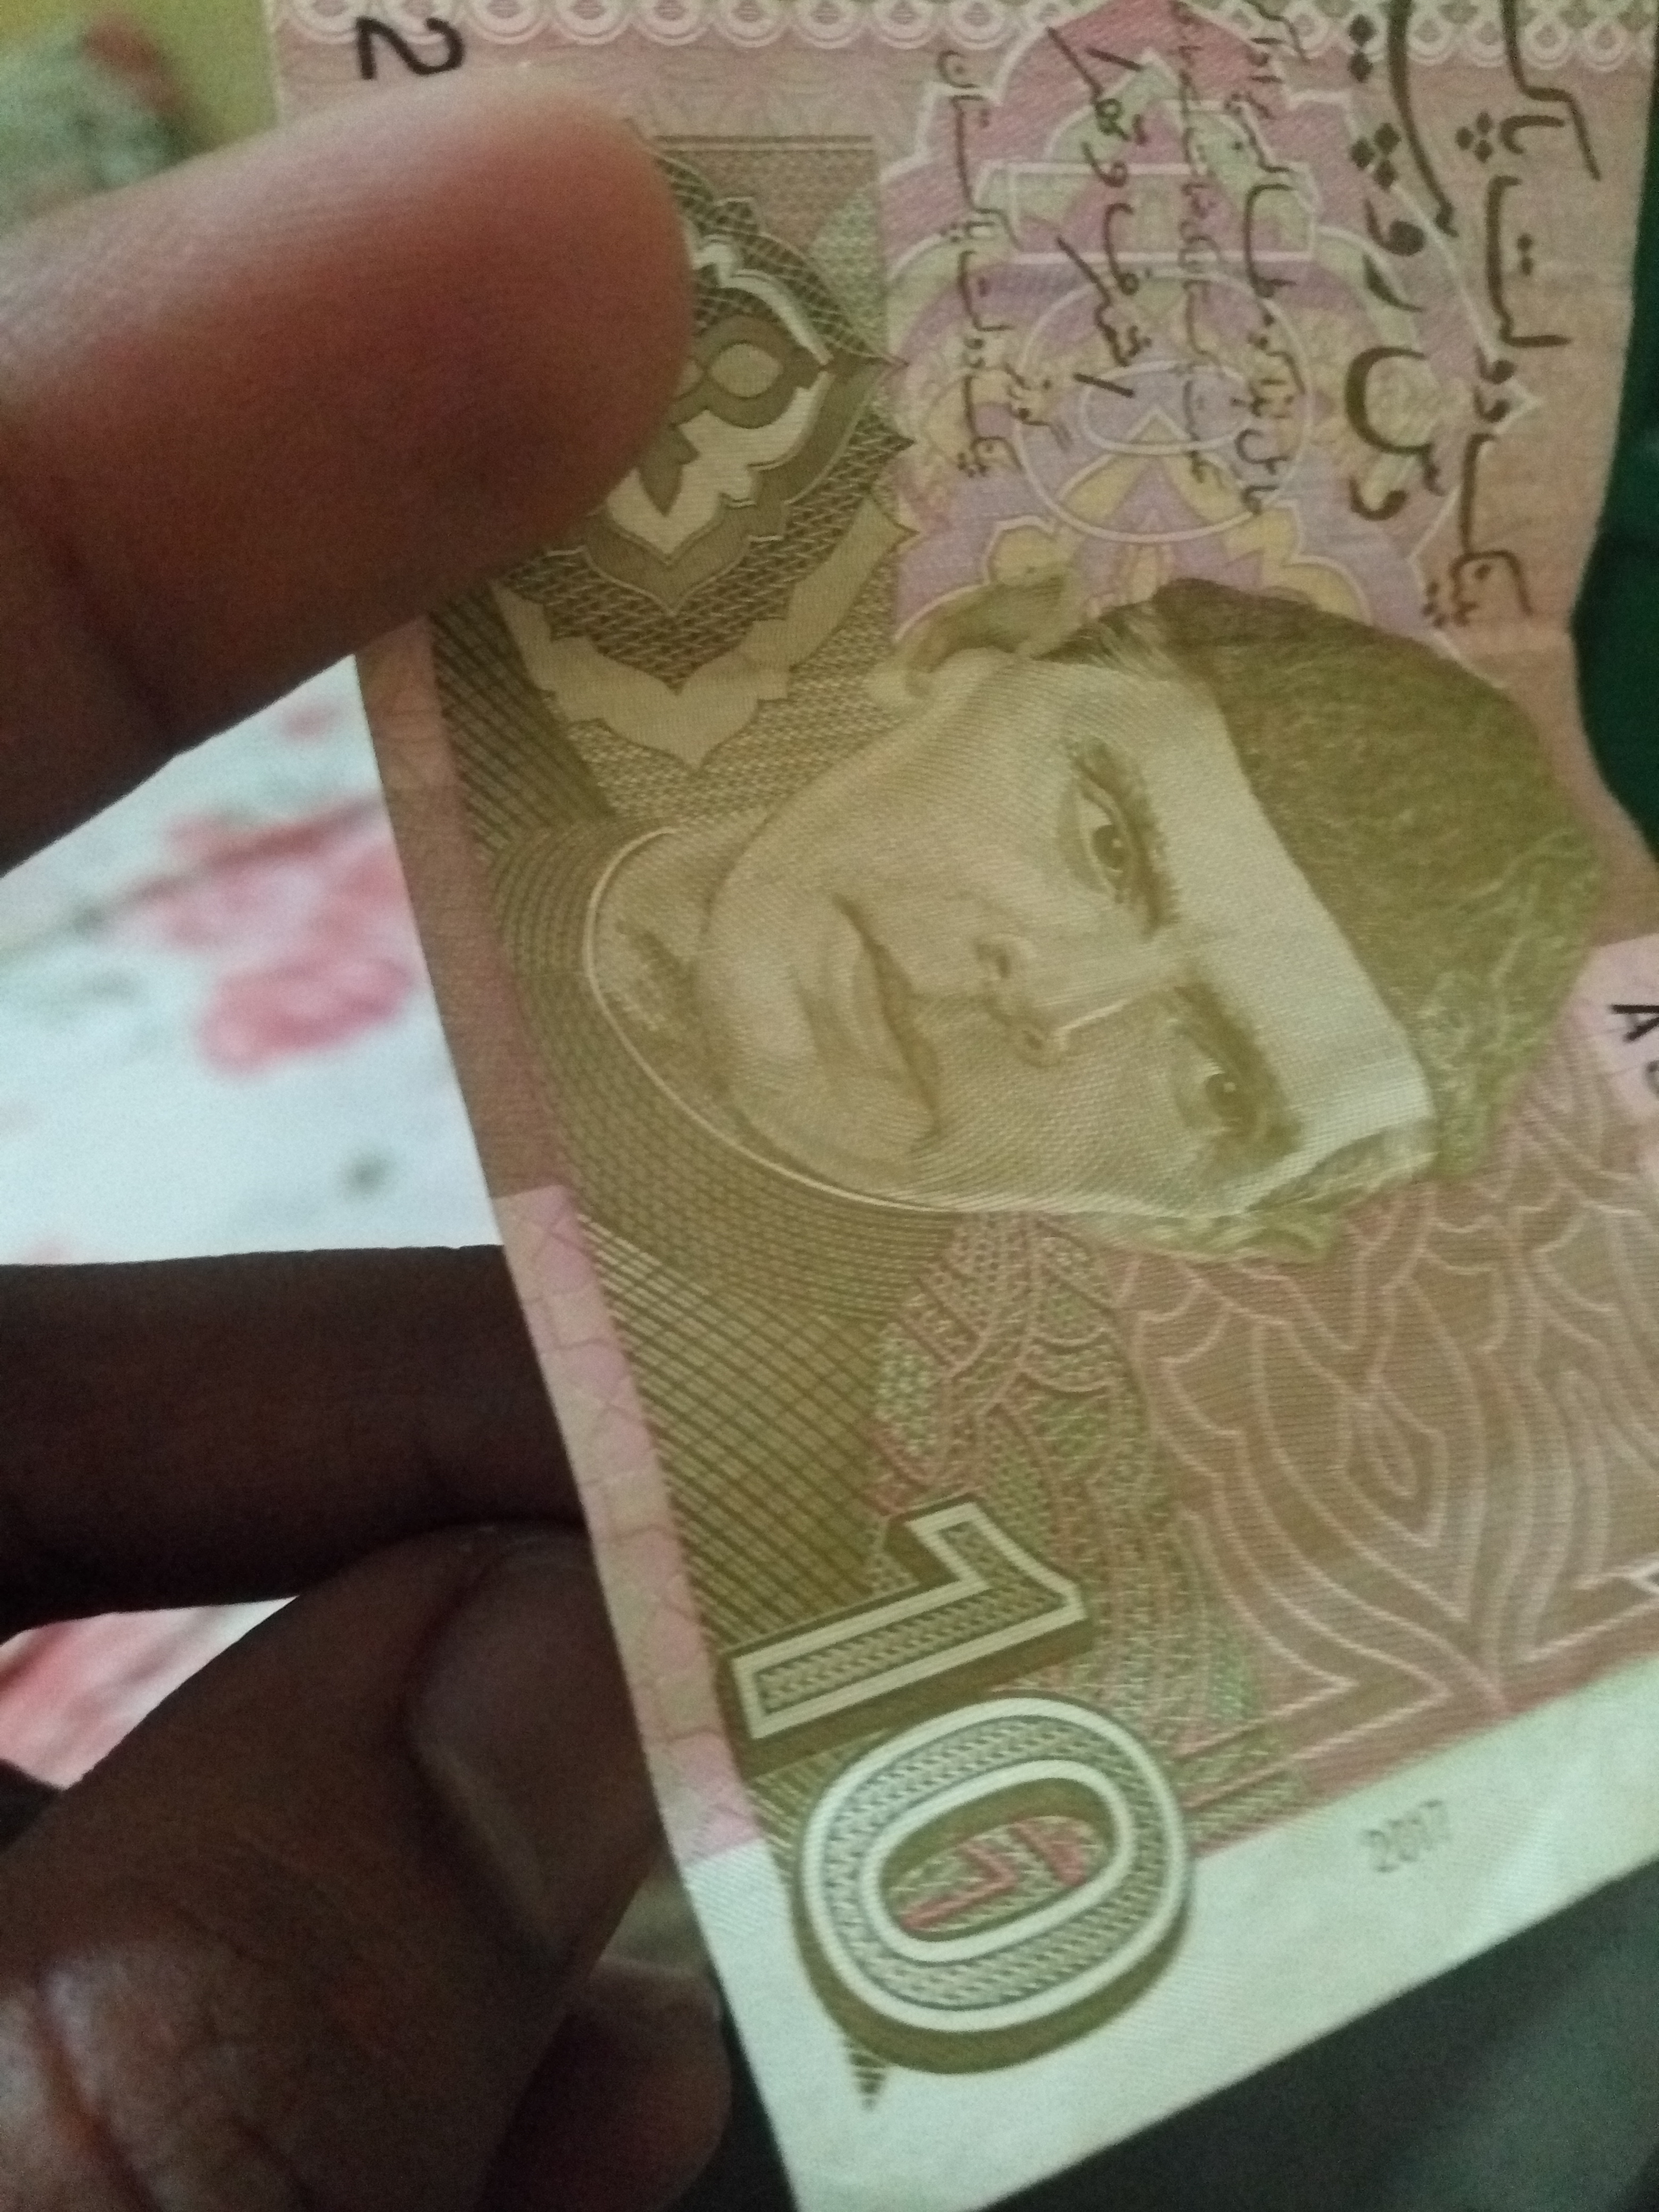10 rupee: (232, 14, 1649, 2212)
